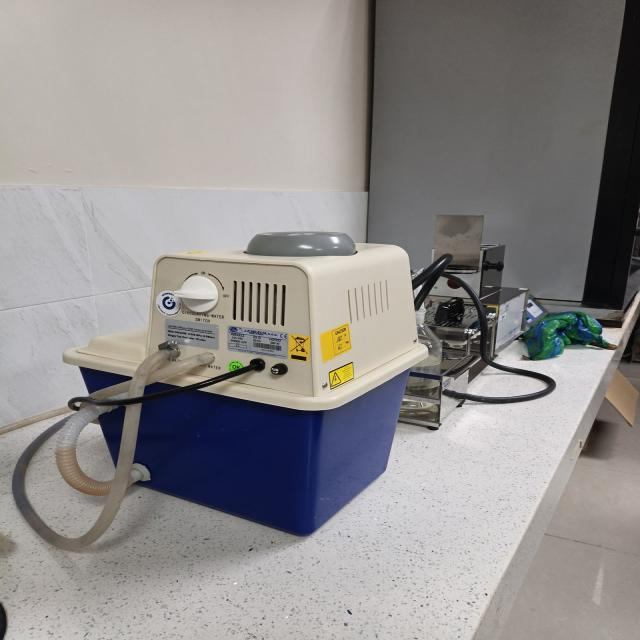Bomba de Vacio por Recirculacion de Agua: (13, 232, 434, 550)
